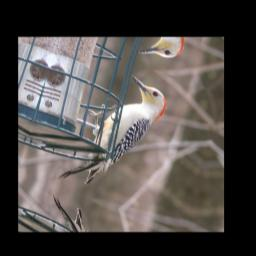Woodpecker: (57, 59, 174, 208)
